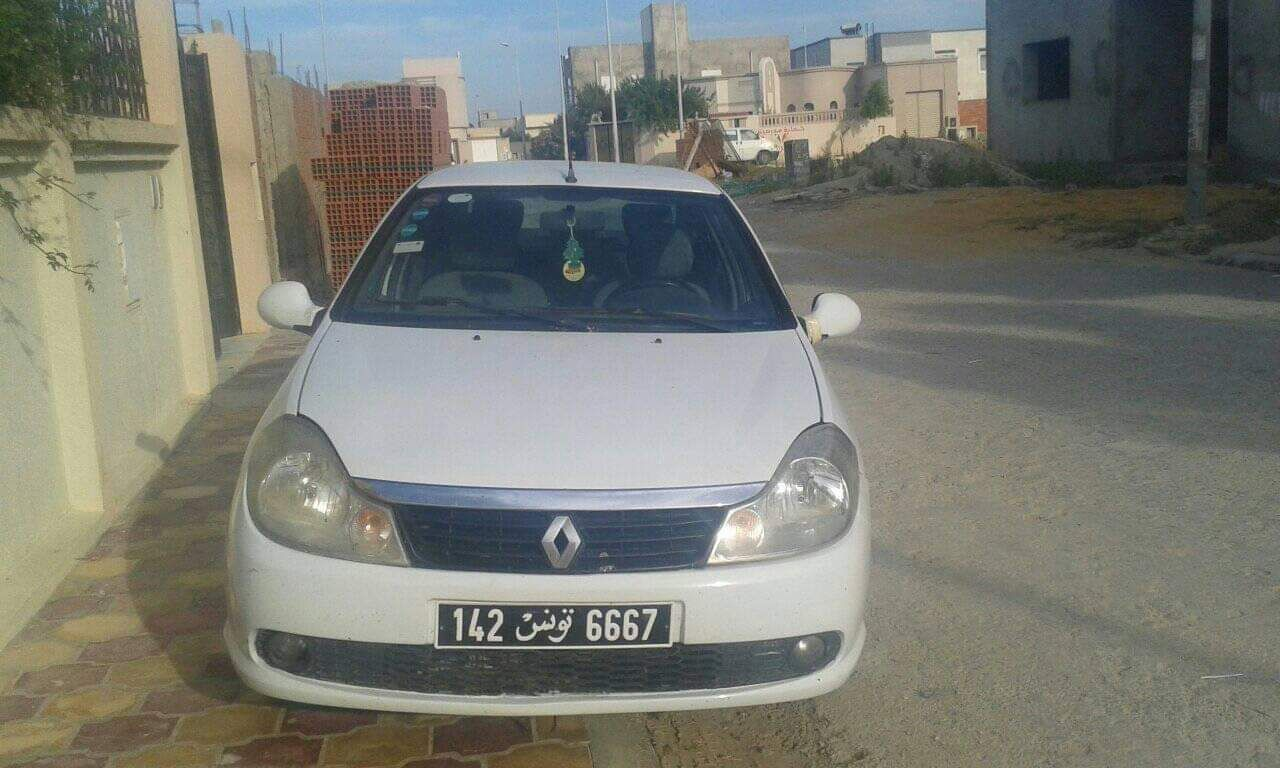LP: (433, 598, 679, 651)
